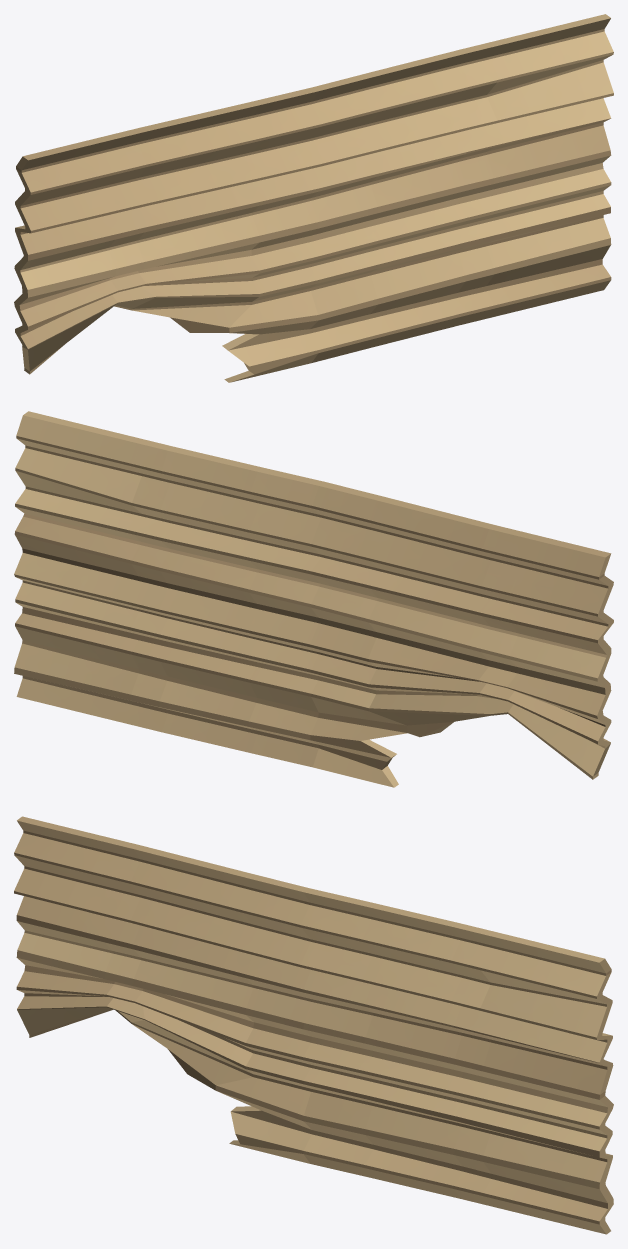
The model's file is garage_door_A.glb.
3 views of the same model, one above another, from view 1: azimuth 30°, elevation 25°; view 2: azimuth 150°, elevation 25°; view 3: azimuth 330°, elevation 25° (orthographic).
Parts seen in each view (by area): view 1: garage_door_A; view 2: garage_door_A; view 3: garage_door_A.
Part boxes in pixels (<box>): garage_door_A: <box>14,14,613,382</box>; garage_door_A: <box>14,411,613,787</box>; garage_door_A: <box>14,816,613,1234</box>.
Bounding box in the file's own units: 2.89 × 1.31 × 0.1626.
1 material, 1 textured.
